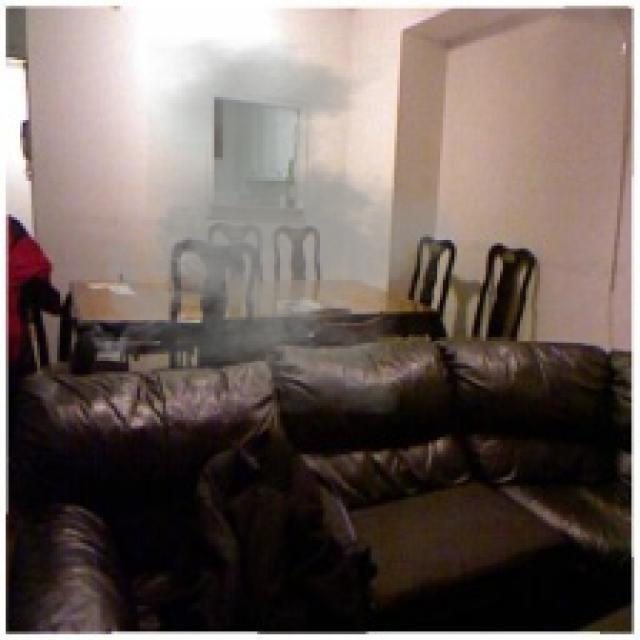Smoke: (77, 37, 469, 414)
